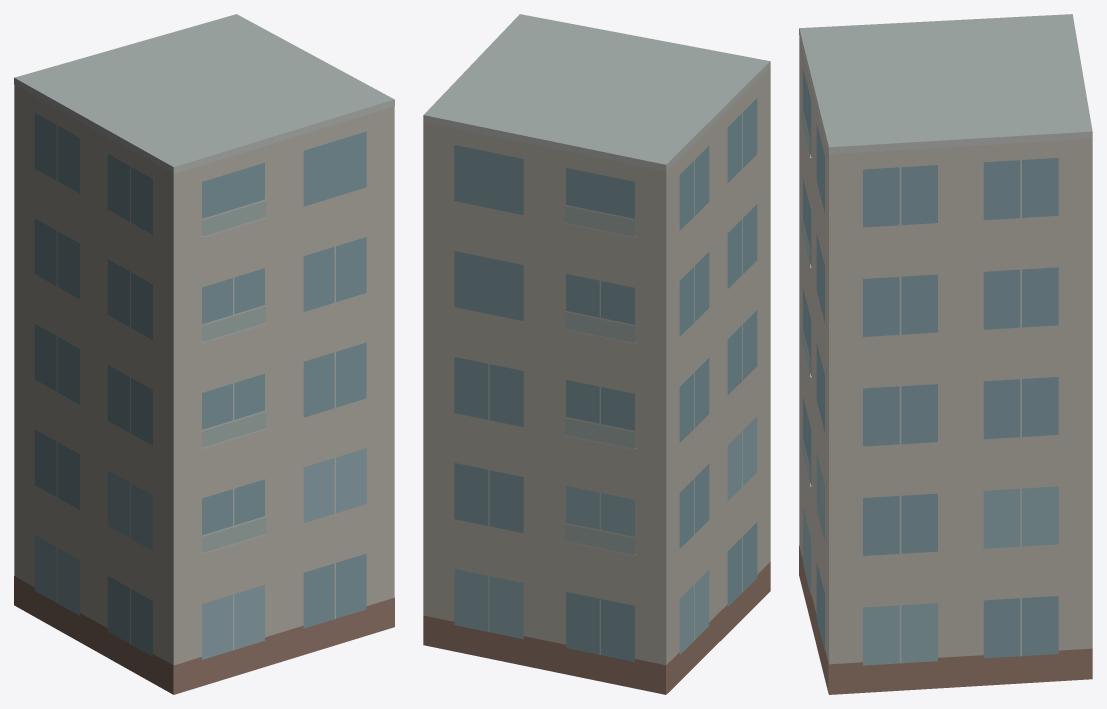
The model's file is survey-upis-32742067.glb.
3 views of the same model, side by side, from view 1: azimuth 30°, elevation 25°; view 2: azimuth 150°, elevation 25°; view 3: azimuth 270°, elevation 25° (orthographic). The views are drawn at different scales.
Visible parts, largest first — view 1: survey-upis-32742067.tmp; view 2: survey-upis-32742067.tmp; view 3: survey-upis-32742067.tmp.
Part boxes in pixels (x1,y1,x2,y2): survey-upis-32742067.tmp: [14, 14, 394, 694]; survey-upis-32742067.tmp: [423, 14, 770, 694]; survey-upis-32742067.tmp: [799, 14, 1092, 694].
Bounding box in the file's own units: 9.77 × 18.7 × 9.09.
